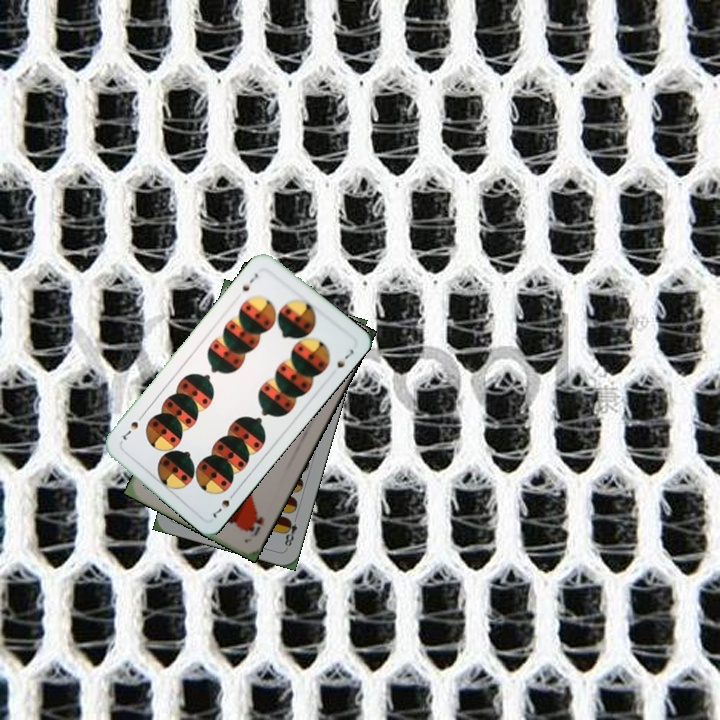E8: (280, 512, 300, 551)
HO: (243, 512, 266, 540)
S7: (209, 488, 239, 521), (238, 269, 261, 294)
